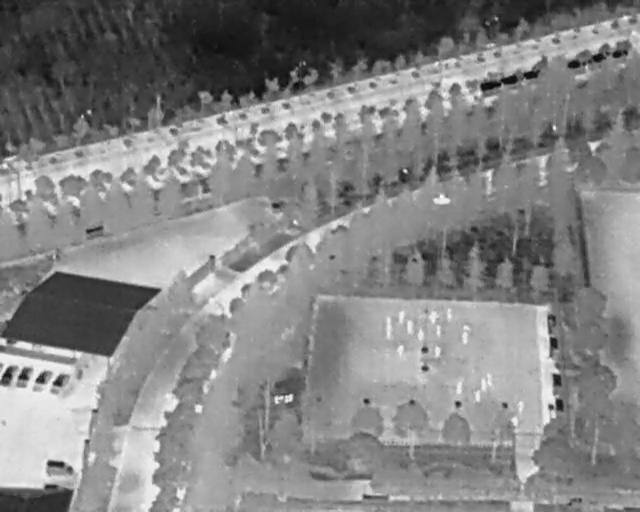Person: (428, 309, 438, 323), (406, 320, 414, 336), (511, 415, 519, 430), (433, 345, 441, 359), (474, 389, 481, 404), (386, 326, 393, 340), (398, 310, 405, 324), (461, 331, 468, 345), (435, 324, 442, 338), (456, 381, 463, 395), (480, 378, 487, 392), (517, 400, 524, 413), (397, 344, 404, 356), (447, 308, 453, 322), (417, 328, 424, 340), (487, 373, 493, 386), (386, 316, 391, 328)
